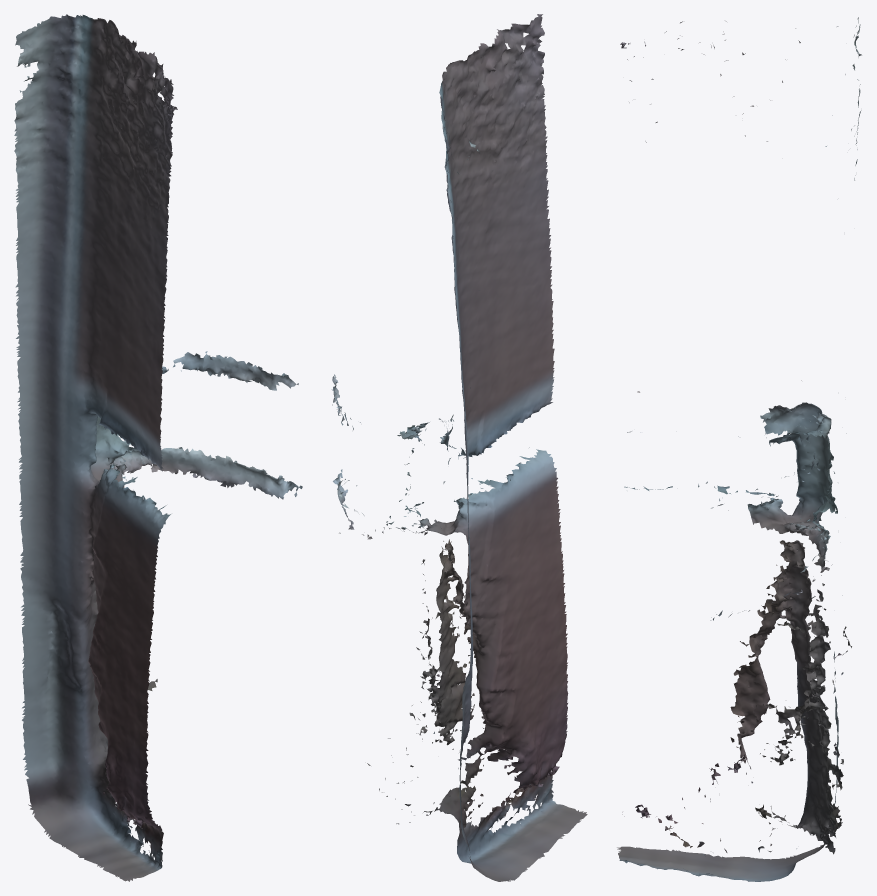
File: apartment-full-57-86b4b0b6d8a1.glb
The picture shows the model from 3 angles, left to right: view 1: azimuth 30°, elevation 25°; view 2: azimuth 150°, elevation 25°; view 3: azimuth 270°, elevation 25°; orthographic projection. The views are drawn at different scales.
Bounding box in the file's own units: 0.608 × 2.16 × 0.552.
